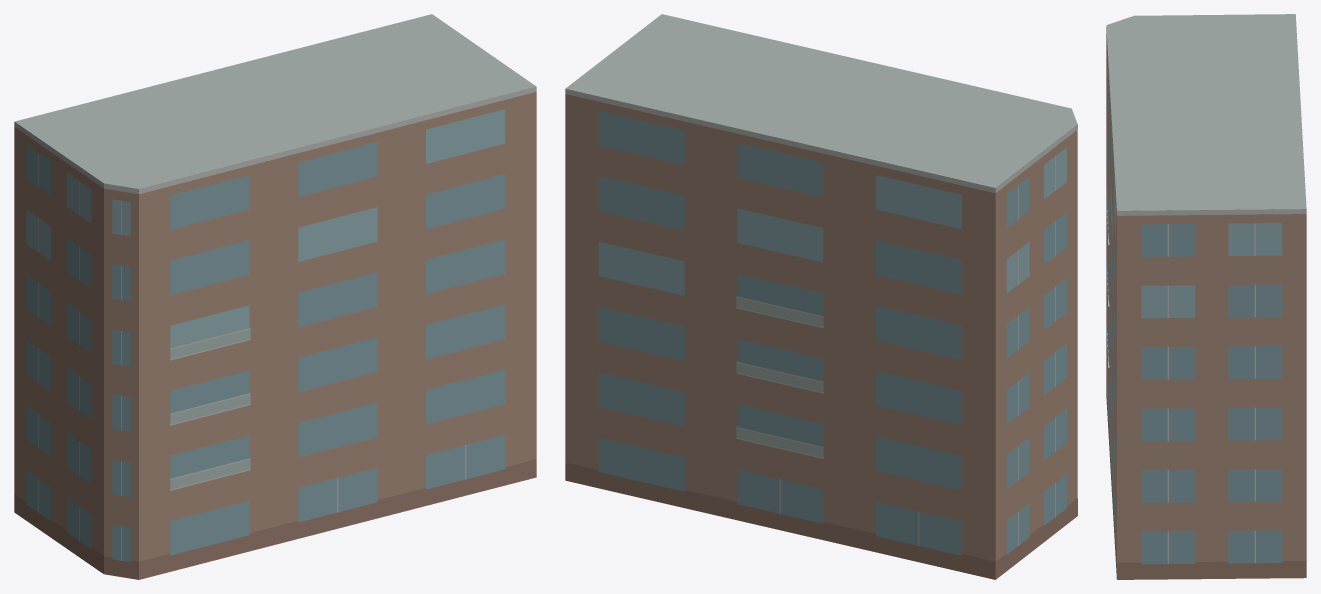
The model's file is survey-upis-33026097.glb.
The picture shows the model from 3 angles, left to right: view 1: azimuth 30°, elevation 25°; view 2: azimuth 150°, elevation 25°; view 3: azimuth 270°, elevation 25°; orthographic projection. The views are drawn at different scales.
Visible parts, largest first — view 1: survey-upis-33026097.tmp; view 2: survey-upis-33026097.tmp; view 3: survey-upis-33026097.tmp.
Part boxes in pixels (<box>): survey-upis-33026097.tmp: <box>14,14,536,579</box>; survey-upis-33026097.tmp: <box>565,14,1077,579</box>; survey-upis-33026097.tmp: <box>1106,14,1306,579</box>.
Bounding box in the file's own units: 20.96 × 18.3 × 9.01.
